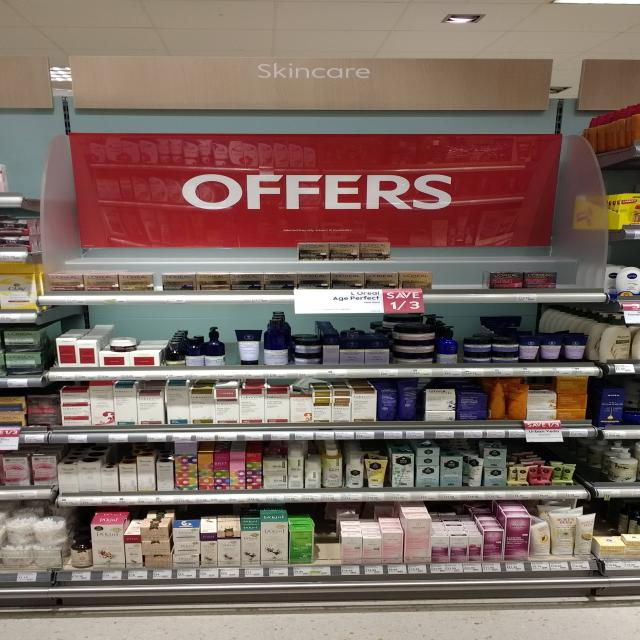void: (563, 238, 596, 302), (579, 442, 607, 499), (435, 238, 459, 302), (460, 240, 483, 303)
